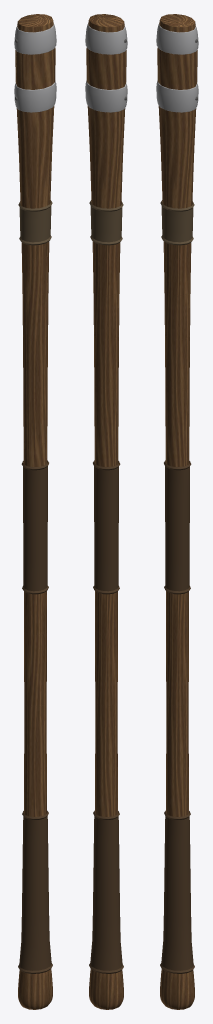
The model's file is gear_frontier_pickhandle.glb.
3 renders of one model, left to right at view 1: azimuth 30°, elevation 25°; view 2: azimuth 150°, elevation 25°; view 3: azimuth 330°, elevation 25°, orthographic.
Parts seen in each view (by area): view 1: gear_frontier_pickhandle; view 2: gear_frontier_pickhandle; view 3: gear_frontier_pickhandle.
Part boxes in pixels (left/top/right/bottom): gear_frontier_pickhandle: left=14, top=14, right=56, bottom=1009; gear_frontier_pickhandle: left=85, top=14, right=127, bottom=1009; gear_frontier_pickhandle: left=156, top=14, right=198, bottom=1009.
Bounding box in the file's own units: 0.0748 × 1.75 × 0.0562.
Materials: 5 (1 with a texture image).
